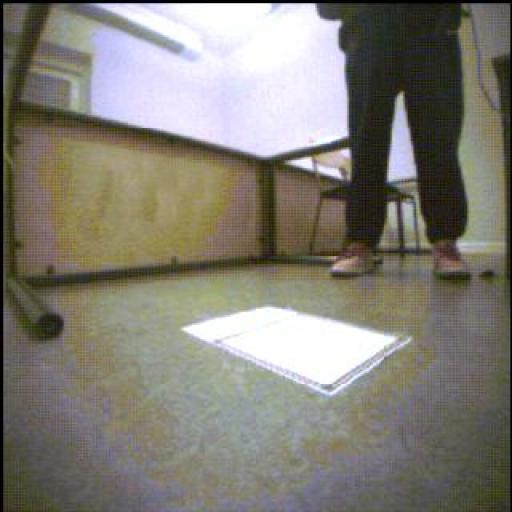Pad: (184, 308, 413, 396)
